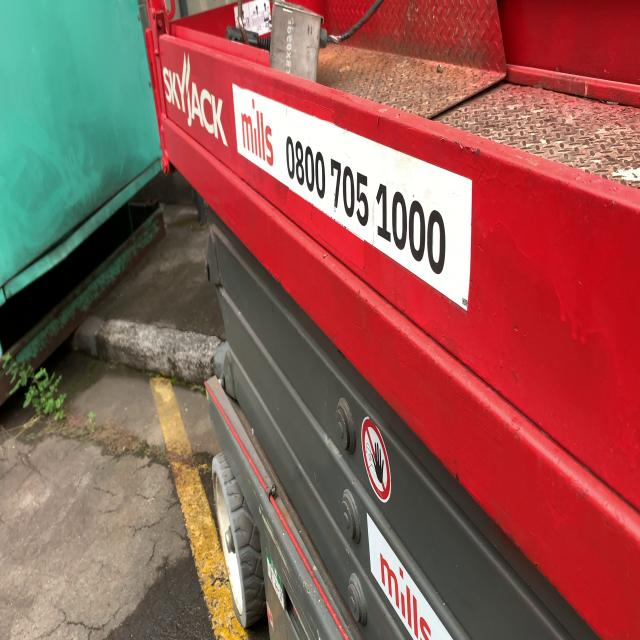Adesivo Longo: (231, 78, 476, 316)
